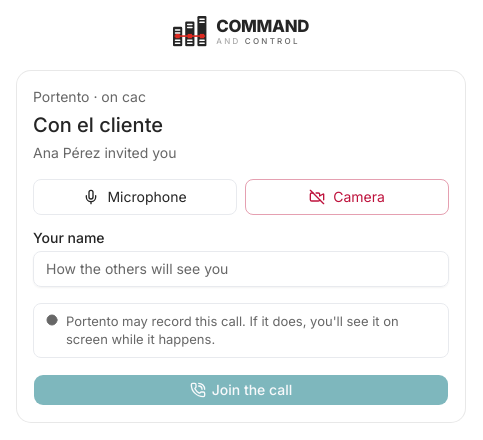
Test case: la sala de espera › pedir entrar deja esperando, sin entrar a la sala
Type "Carla" into the field labelled "Your name" at (241,269), box [33,251,449,287]
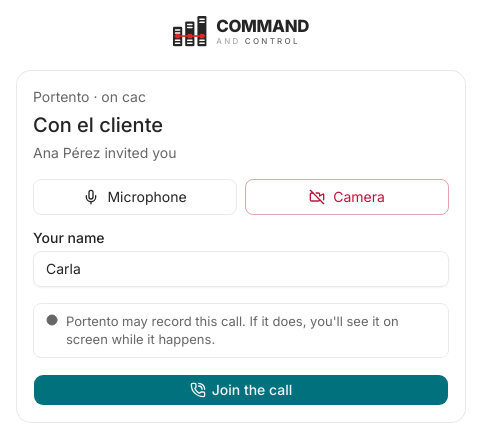
Click the button "Join the call" at (241,390), box [33,374,449,406]
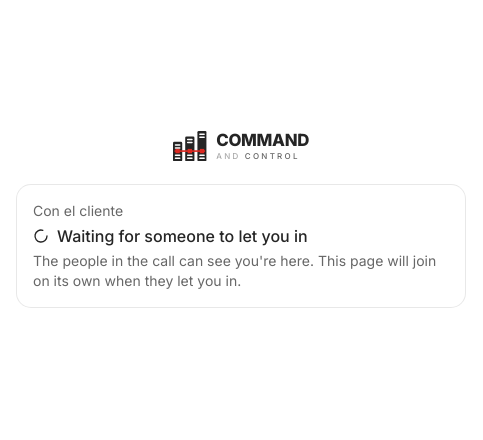
Result: the text "Waiting for someone to let you in" is shown at [33,226,308,246]
